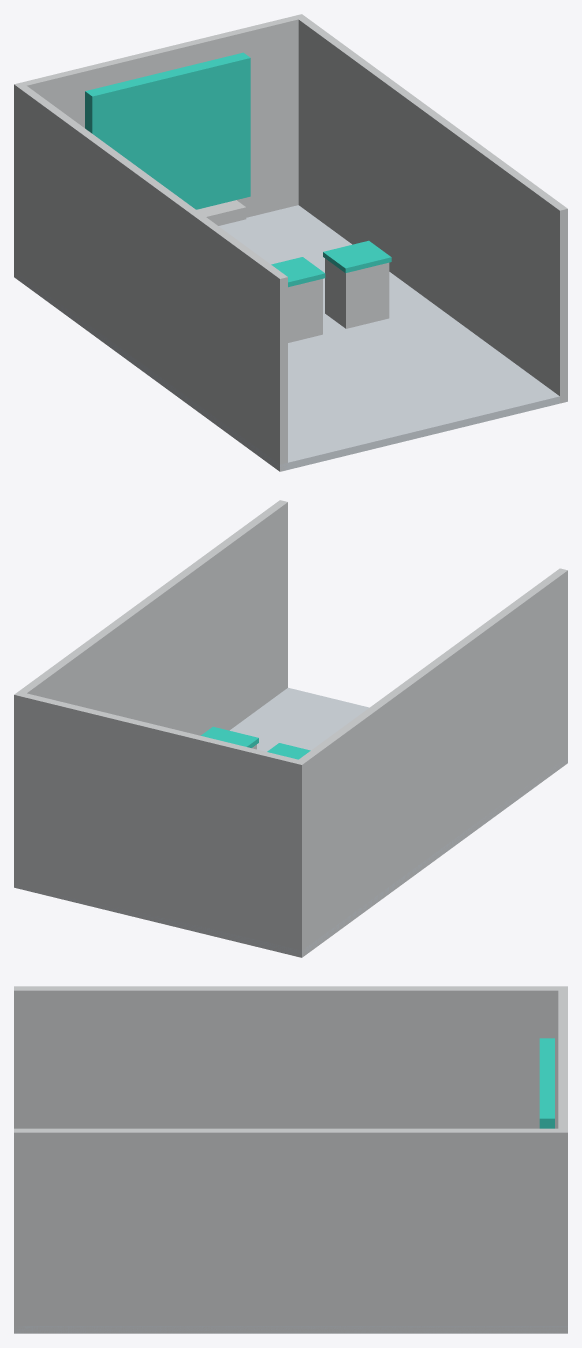
3 views of the same model, one above another, from view 1: azimuth 30°, elevation 25°; view 2: azimuth 150°, elevation 25°; view 3: azimuth 270°, elevation 25° (orthographic). The views are drawn at different scales.
Visible parts, largest first — view 1: Exhibition Booth Concept; view 2: Exhibition Booth Concept; view 3: Exhibition Booth Concept.
Part boxes in pixels (bbox=[...]): Exhibition Booth Concept: bbox=[14, 14, 567, 471]; Exhibition Booth Concept: bbox=[14, 500, 567, 957]; Exhibition Booth Concept: bbox=[14, 986, 567, 1333].
Size of the model in its own units: 5 by 3.2 by 8.
